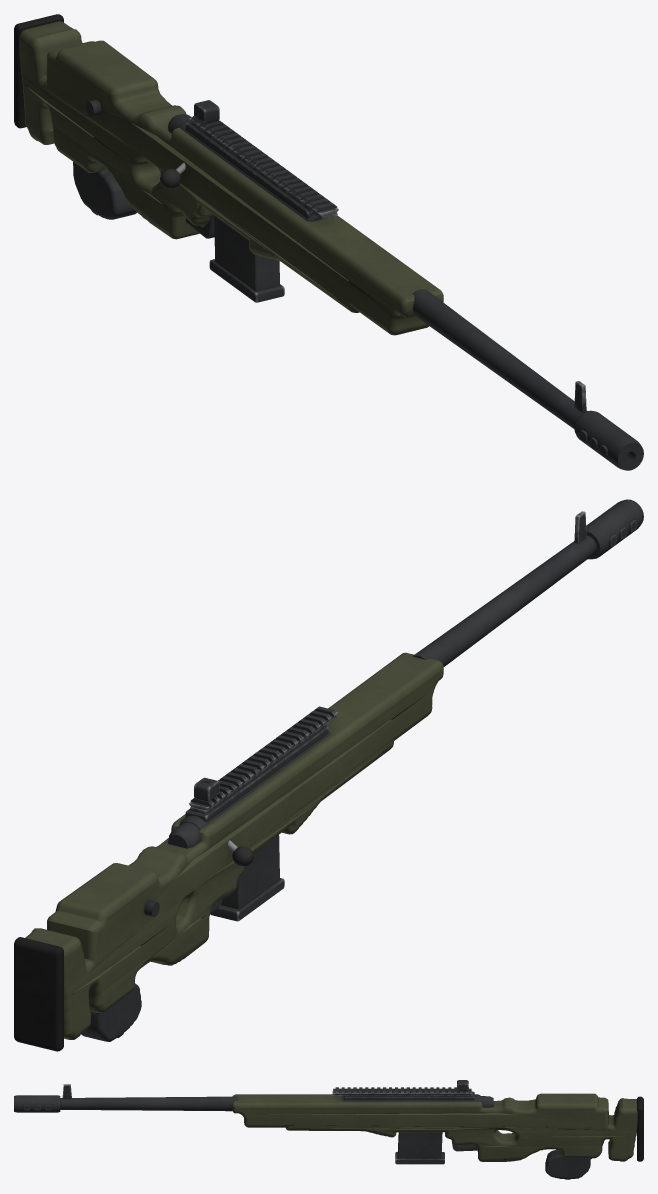
The model's file is sr_awm.glb.
The picture shows the model from 3 angles, top to bottom: view 1: azimuth 30°, elevation 25°; view 2: azimuth 150°, elevation 25°; view 3: azimuth 270°, elevation 25°; orthographic projection. The views are drawn at different scales.
Parts seen in each view (by area): view 1: body, mag_mesh, bolt_mesh; view 2: body, mag_mesh, bolt_mesh; view 3: body, mag_mesh.
Part boxes in pixels (x1,y1,x2,y2): body: (14, 14, 643, 470); mag_mesh: (209, 215, 284, 302); bolt_mesh: (160, 114, 191, 188); body: (14, 499, 643, 1051); mag_mesh: (210, 835, 284, 921); bolt_mesh: (168, 822, 253, 866); body: (14, 1080, 643, 1179); mag_mesh: (395, 1132, 444, 1164).
Bounding box in the file's own units: 0.0841 × 0.2057 × 1.24.
Materials: 1 (1 with a texture image).
